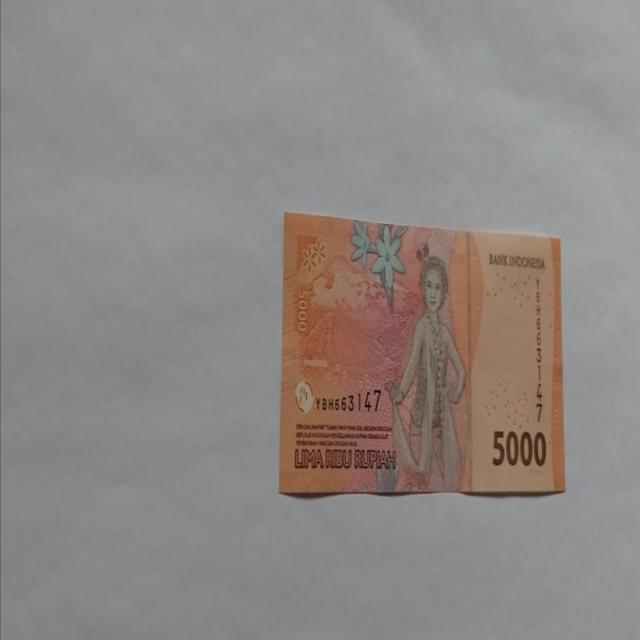lima ribu rupiah: (278, 210, 566, 498), (383, 255, 467, 493)
